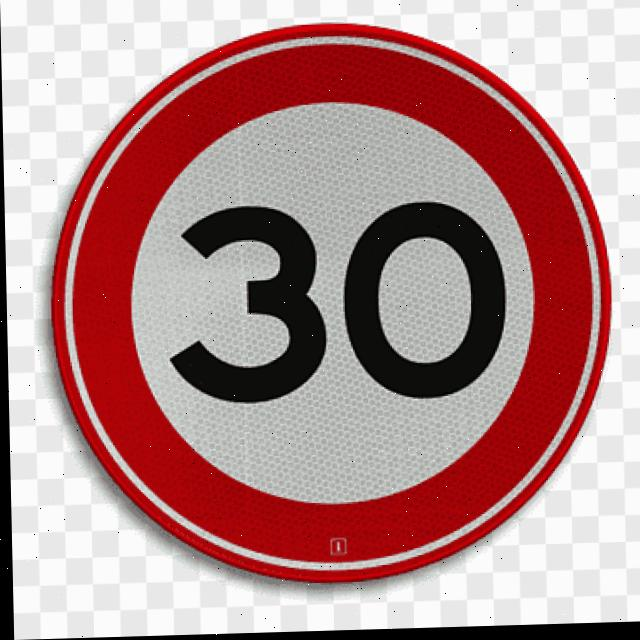Speed limit 30: (42, 17, 618, 594)
